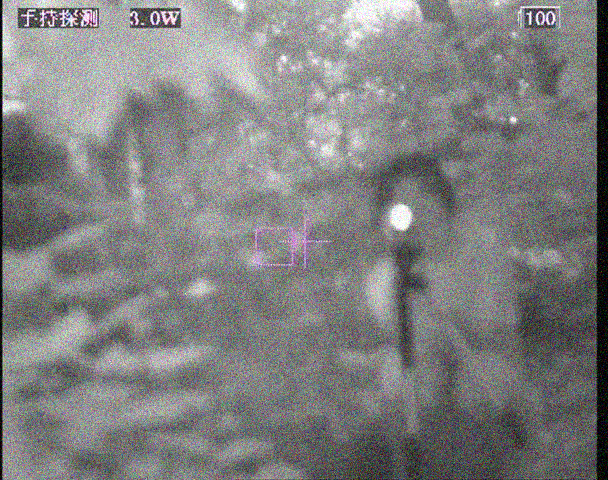my: (387, 203, 414, 231)
